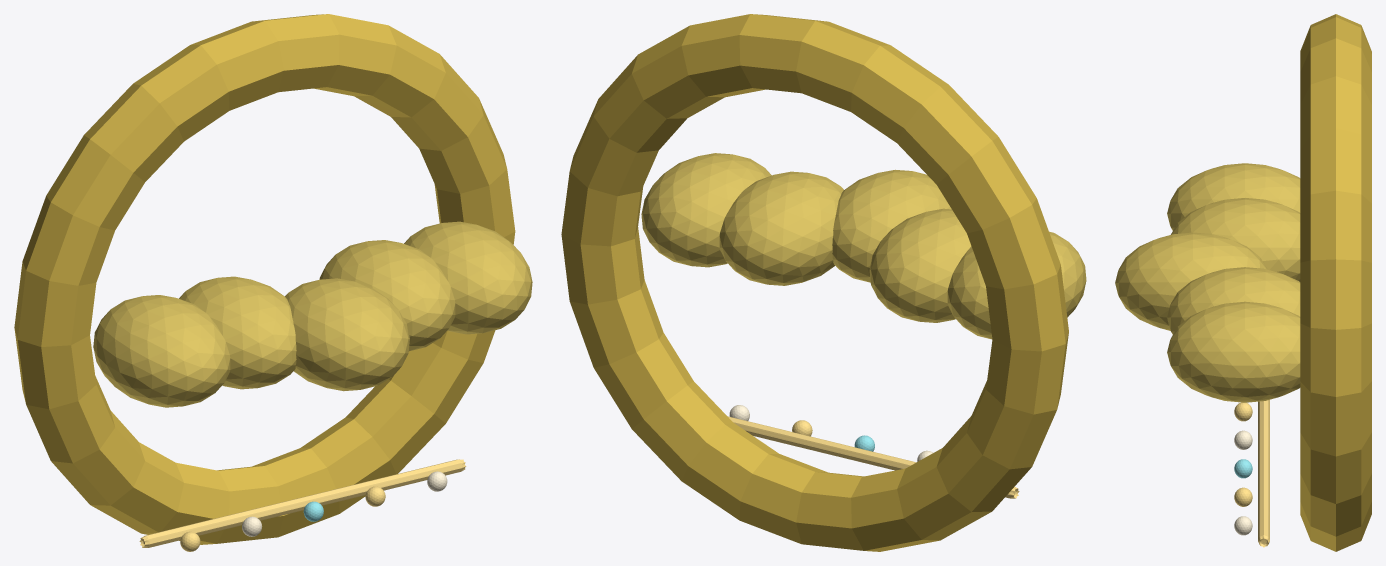
File: corona-estrella.glb
3 renders of one model, left to right at view 1: azimuth 30°, elevation 25°; view 2: azimuth 150°, elevation 25°; view 3: azimuth 270°, elevation 25°, orthographic. The views are drawn at different scales.
Parts seen in each view (by area): view 1: corona-estrella_00, corona-estrella_01, corona-estrella_03, corona-estrella_05, corona-estrella_02, corona-estrella_04, Detalle_01; view 2: corona-estrella_00, corona-estrella_04, corona-estrella_05, corona-estrella_02, corona-estrella_03, corona-estrella_01, Detalle_01; view 3: corona-estrella_00, corona-estrella_05, corona-estrella_03, corona-estrella_02, corona-estrella_01, corona-estrella_04, Detalle_01.
Boxes of the visible parts, x1,y1,x2,y2 form: corona-estrella_00: (14, 14, 515, 544); corona-estrella_01: (93, 295, 230, 407); corona-estrella_03: (285, 278, 409, 391); corona-estrella_05: (404, 221, 532, 334); corona-estrella_02: (179, 276, 296, 389); corona-estrella_04: (319, 240, 455, 351); Detalle_01: (139, 459, 466, 547); corona-estrella_00: (561, 14, 1068, 551); corona-estrella_04: (719, 171, 843, 285); corona-estrella_05: (641, 153, 771, 267); corona-estrella_02: (869, 208, 971, 322); corona-estrella_03: (832, 169, 951, 282); corona-estrella_01: (947, 231, 1086, 339); Detalle_01: (728, 416, 1019, 498); corona-estrella_00: (1300, 14, 1371, 551); corona-estrella_05: (1167, 301, 1300, 402); corona-estrella_03: (1115, 232, 1266, 330); corona-estrella_02: (1171, 198, 1300, 281); corona-estrella_01: (1167, 163, 1300, 230); corona-estrella_04: (1167, 267, 1300, 334); Detalle_01: (1258, 399, 1269, 547).
Bounding box in the file's own units: 0.6484 × 0.6484 × 0.3083.
